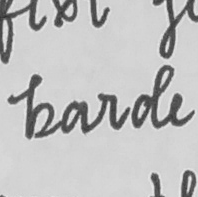a: (59, 97, 91, 137)
b: (22, 73, 57, 141)
d: (128, 62, 175, 130)
e: (167, 91, 198, 129)
r: (93, 91, 124, 132)
